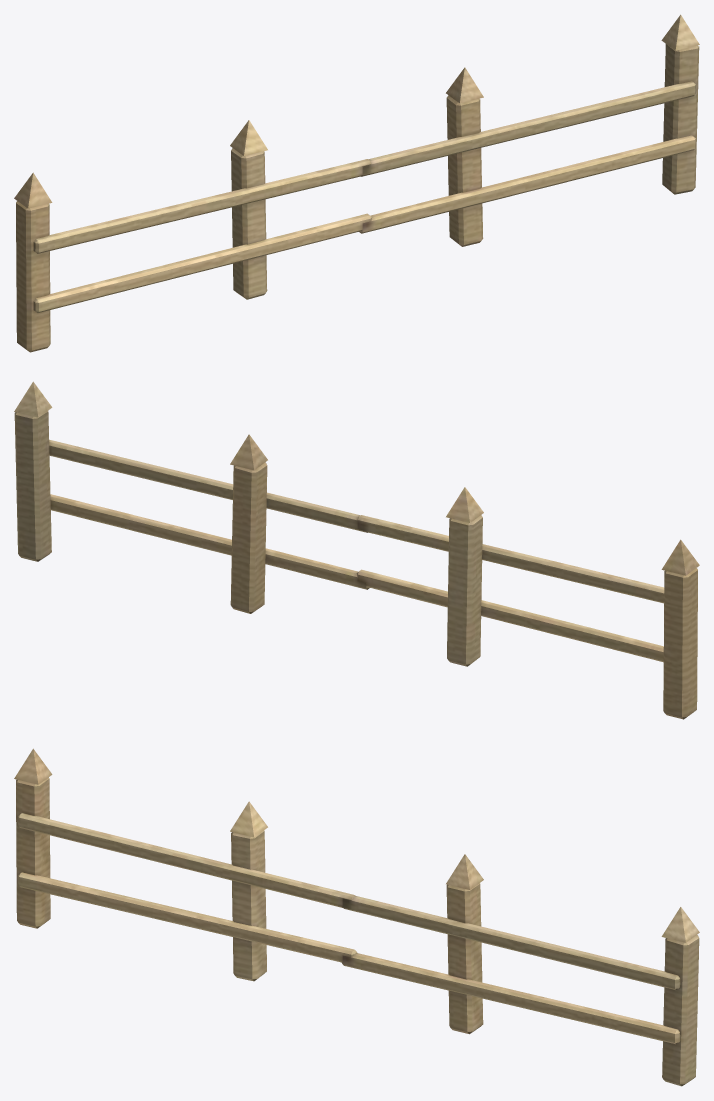
The model's file is fence_6_4.glb.
3 renders of one model, top to bottom at view 1: azimuth 30°, elevation 25°; view 2: azimuth 150°, elevation 25°; view 3: azimuth 330°, elevation 25°, orthographic.
Visible parts, largest first — view 1: box; view 2: box; view 3: box.
Part boxes in pixels (left/top/right/bottom): box: left=14, top=14, right=699, bottom=352; box: left=14, top=381, right=699, bottom=719; box: left=14, top=748, right=699, bottom=1086.
Bounding box in the file's own units: 6.25 × 1.55 × 0.2744.
Materials: 1 (1 with a texture image).
